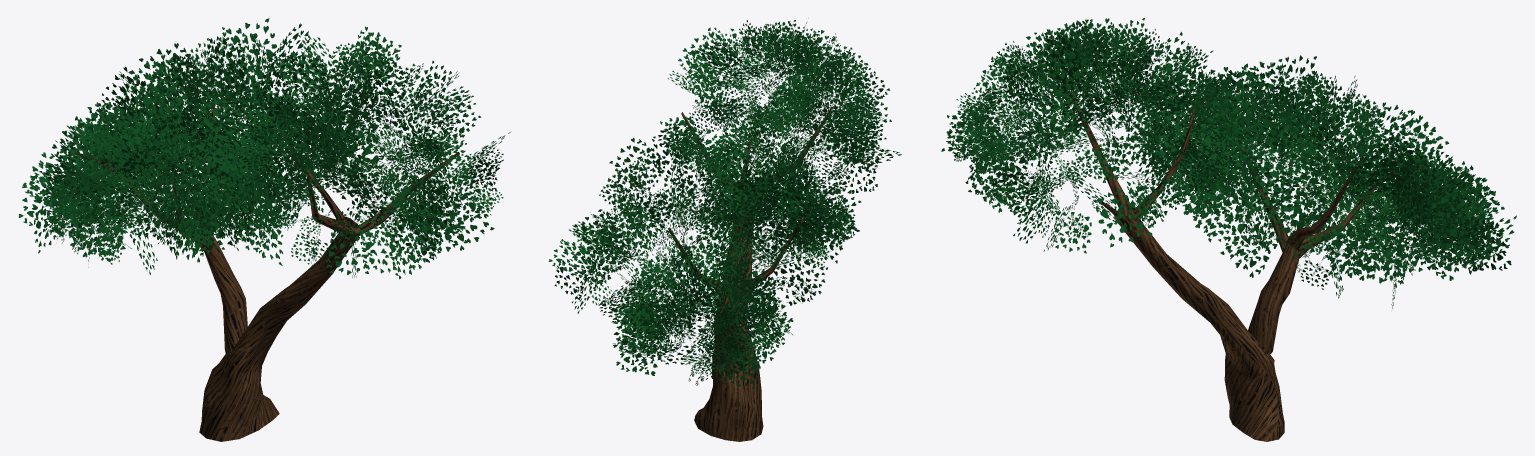
File: Cay 2 - LOD 1.fbx
3 renders of one model, left to right at view 1: azimuth 30°, elevation 25°; view 2: azimuth 150°, elevation 25°; view 3: azimuth 270°, elevation 25°, orthographic. The views are drawn at different scales.
Visible parts, largest first — view 1: LOD1; view 2: LOD1; view 3: LOD1.
Part boxes in pixels (x1,y1,x2,y2): LOD1: [18, 18, 510, 441]; LOD1: [548, 20, 901, 441]; LOD1: [941, 18, 1516, 441].
Bounding box in the file's own units: 931 × 1253 × 1591.
Materials: 2 (2 with a texture image).
